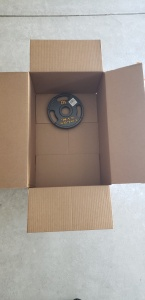innerbox: (30, 73, 110, 185)
outerbox: (2, 39, 145, 235)
product: (47, 91, 84, 131)
